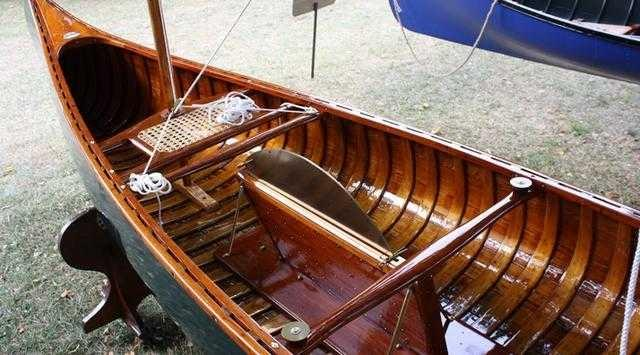kayak: (34, 0, 640, 353), (387, 0, 638, 84)
